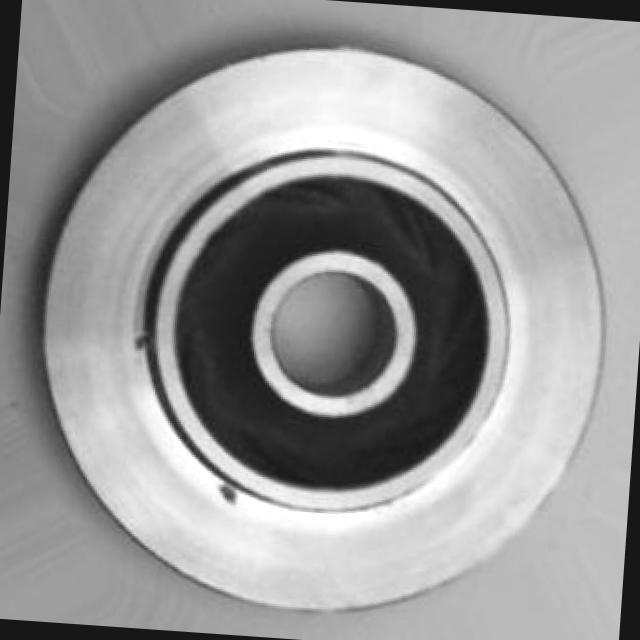Defect: (206, 464, 243, 514)
